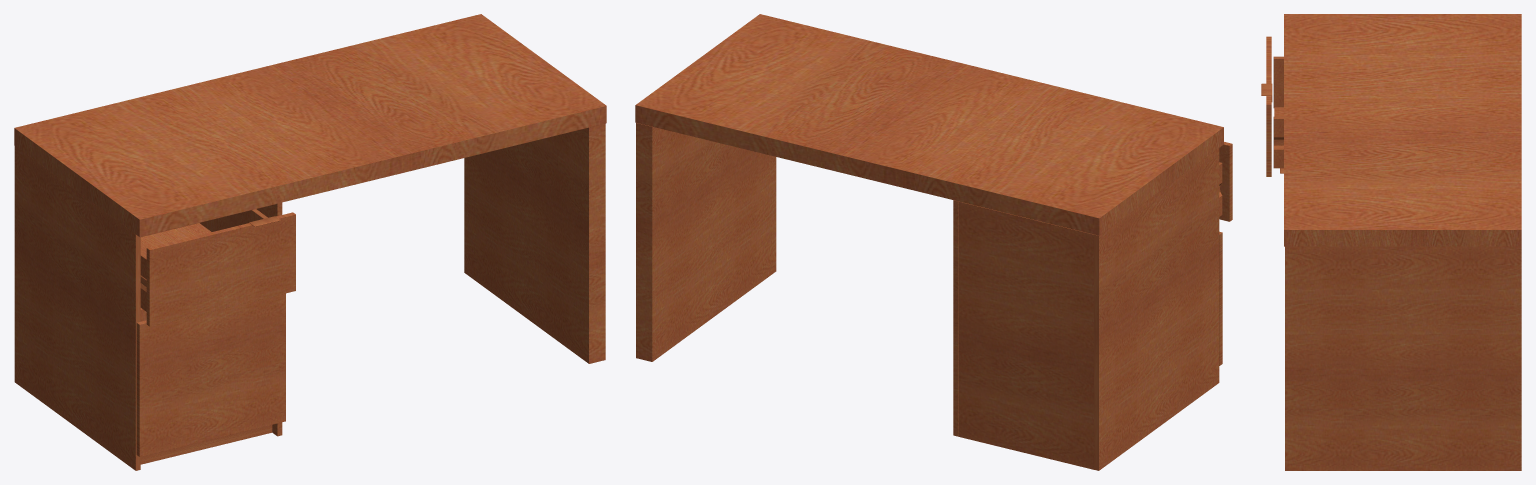
File: DeskChief.FBX
3 views of the same model, side by side, from view 1: azimuth 30°, elevation 25°; view 2: azimuth 150°, elevation 25°; view 3: azimuth 270°, elevation 25° (orthographic). The views are drawn at different scales.
Visible parts, largest first — view 1: jonas, door, drawer; view 2: jonas, drawer; view 3: jonas, drawer.
Boxes of the visible parts, box(x1,y1,x2,y2) form: jonas: box(14, 14, 606, 470); door: box(136, 293, 285, 456); drawer: box(140, 209, 295, 326); jonas: box(635, 14, 1223, 470); drawer: box(1219, 142, 1232, 221); jonas: box(1284, 14, 1521, 470); drawer: box(1261, 36, 1283, 176).
Bounding box in the file's own units: 55.24 × 28.81 × 28.16.
Materials: 1 (1 with a texture image).
